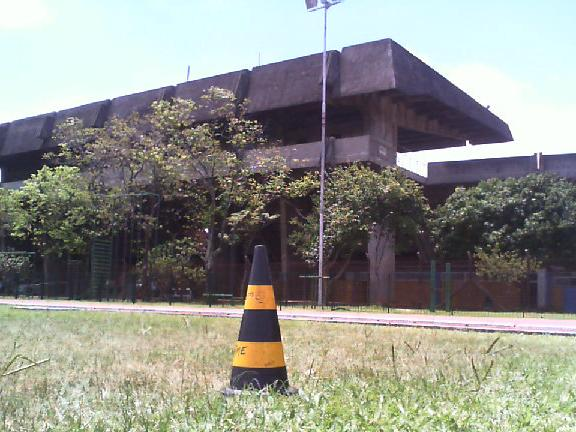0 cone: (223, 246, 298, 395)
